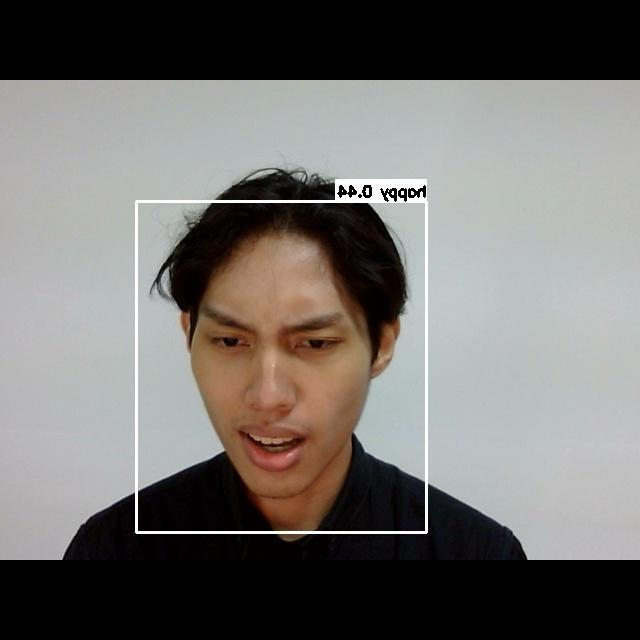Angry: (186, 296, 374, 473)
